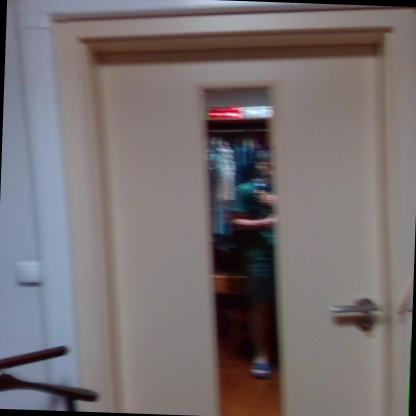closed: (64, 8, 396, 416)
